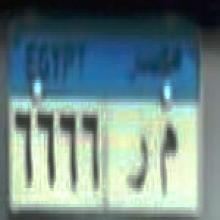6: (58, 109, 78, 196), (80, 111, 102, 190), (36, 108, 56, 192), (14, 108, 34, 190)
meem: (156, 114, 179, 206)
raa: (126, 130, 150, 197)
